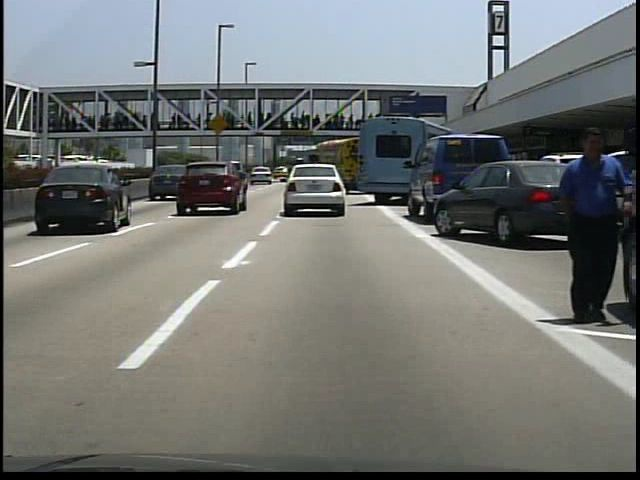person: (548, 124, 616, 325)
